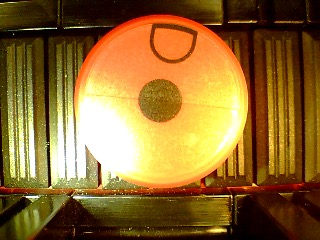BOHOMIPO1: (72, 14, 249, 187)
